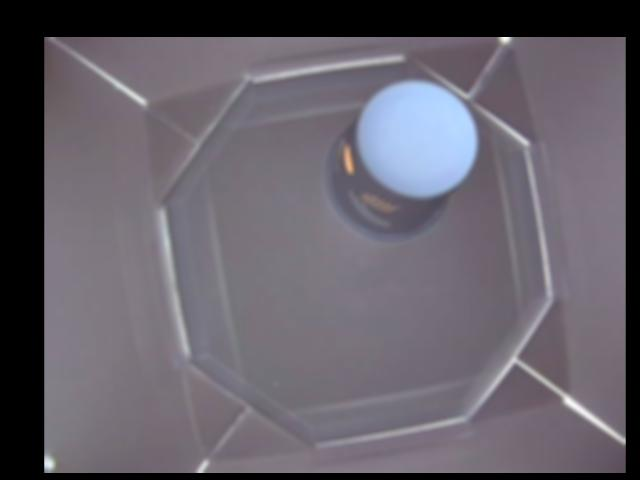Cup: (323, 78, 479, 241)
